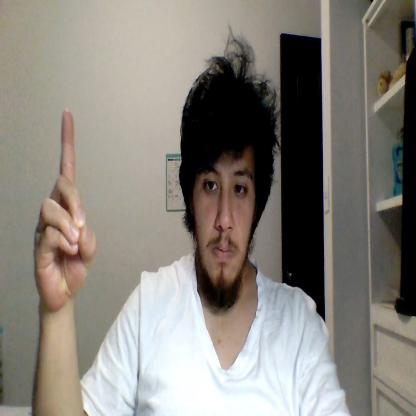D: (34, 108, 96, 309)
